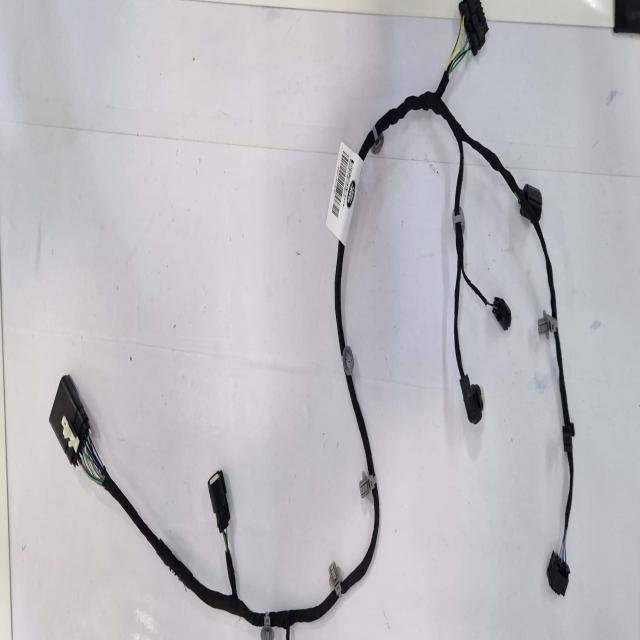Clip: (537, 310, 557, 336), (351, 474, 368, 499), (318, 562, 330, 596), (371, 125, 384, 154), (249, 610, 261, 640), (340, 349, 351, 380), (453, 208, 466, 234), (563, 421, 574, 449)
Connector: (49, 375, 87, 463), (460, 0, 488, 62), (207, 470, 227, 529), (459, 377, 483, 426), (549, 550, 570, 596), (519, 184, 541, 224), (492, 298, 511, 333)
Gape: (445, 17, 475, 84), (80, 432, 108, 498), (213, 519, 226, 559), (556, 526, 569, 561)
Info: (326, 138, 365, 240)
MHEV_N11_Cable: (359, 56, 574, 596), (102, 471, 250, 621), (337, 490, 379, 598), (345, 490, 379, 591), (268, 592, 334, 640), (348, 369, 374, 475), (348, 377, 371, 477), (334, 243, 346, 354), (335, 242, 345, 363), (222, 532, 238, 599)
